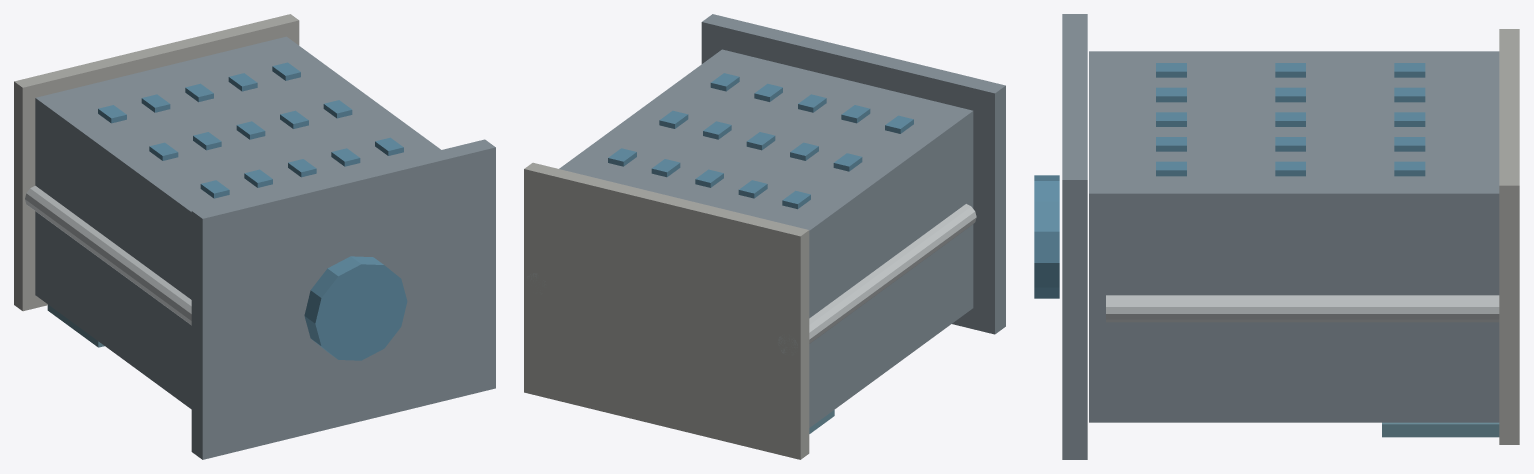
File: AGE_IX_commercial.glb
3 renders of one model, left to right at view 1: azimuth 30°, elevation 25°; view 2: azimuth 150°, elevation 25°; view 3: azimuth 270°, elevation 25°, orthographic. The views are drawn at different scales.
Parts seen in each view (by area): view 1: world; view 2: world; view 3: world.
Part boxes in pixels (x1,y1,x2,y2): world: (14, 14, 495, 459); world: (524, 14, 1005, 459); world: (1034, 14, 1519, 459).
Bounding box in the file's own units: 7 × 5.5 × 8.65.
